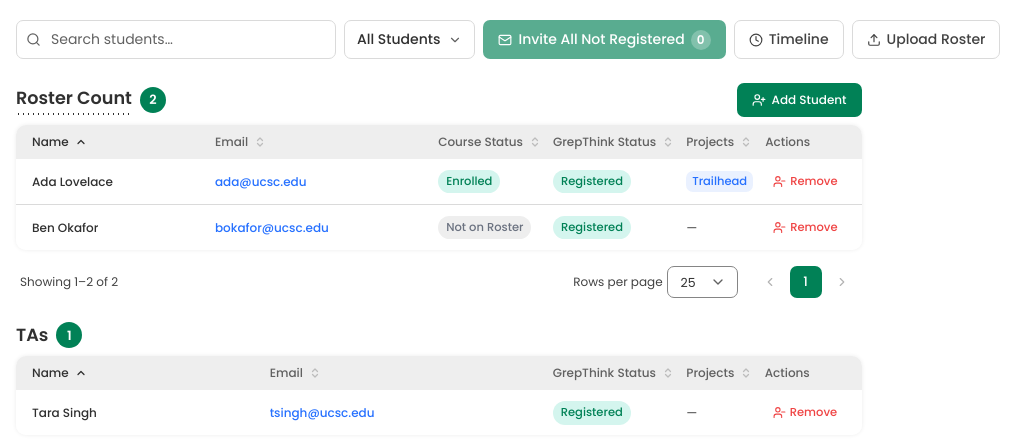
Roster — the TA list › keeps TAs out of a filtered student list, and shows the TA list under All Students only
Expected: the table named "Students" is shown, [16, 125, 862, 250]
Click the button "All Students" at (410, 40), box [344, 20, 476, 59]
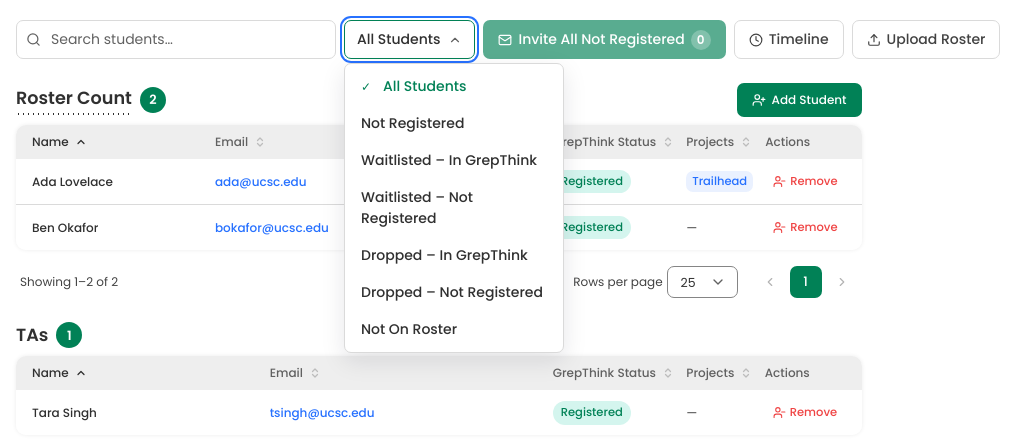
Click the button "Not On Roster" at (454, 330), box [349, 311, 559, 348]
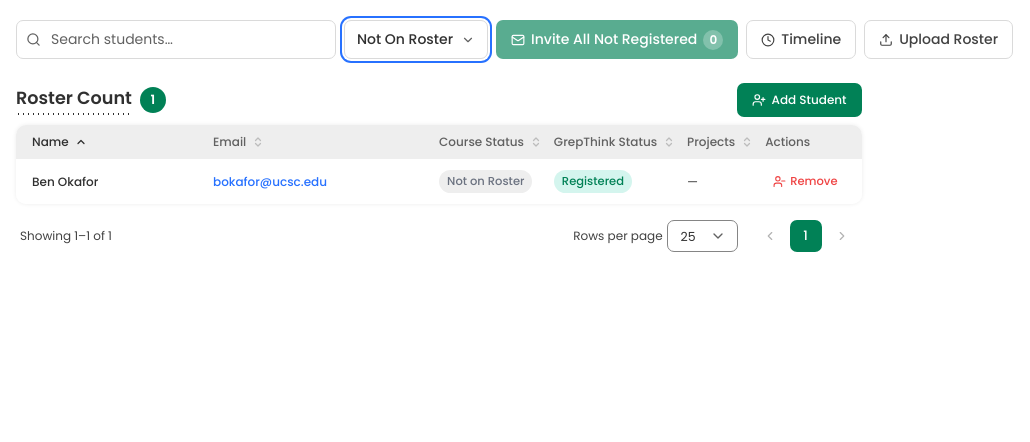
Expected: the text "Ben Okafor" is shown, [16, 159, 207, 204]
Expected: the text "Tara Singh" is gone
Expected: the heading "TAs" is gone
